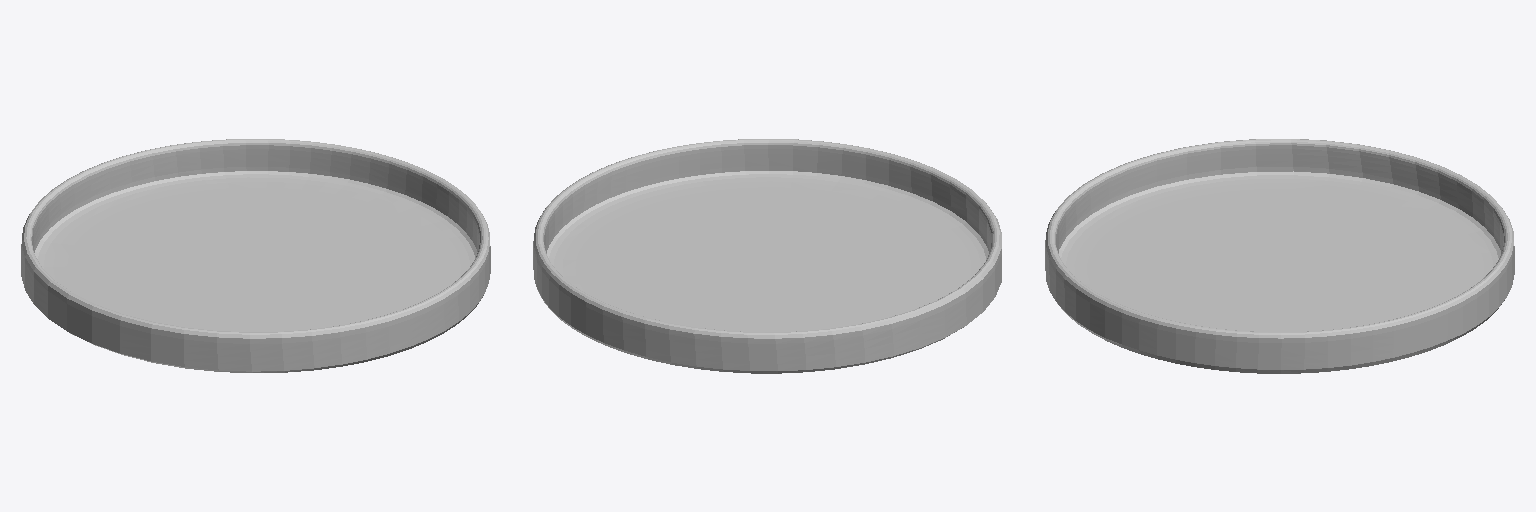
Rendered from Le Nuage d'Oort01.obj.
3 views of the same model, side by side, from view 1: azimuth 30°, elevation 25°; view 2: azimuth 150°, elevation 25°; view 3: azimuth 270°, elevation 25° (orthographic).
Visible parts, largest first — view 1: Cylinder001; view 2: Cylinder001; view 3: Cylinder001.
Part boxes in pixels (x1,y1,x2,y2): Cylinder001: (21,139,490,372); Cylinder001: (533,139,1001,373); Cylinder001: (1045,139,1514,373).
Size of the model in its own units: 47.68 by 4.52 by 47.68.